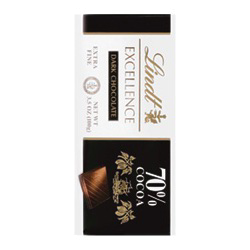grozi_65: (74, 10, 174, 238)
